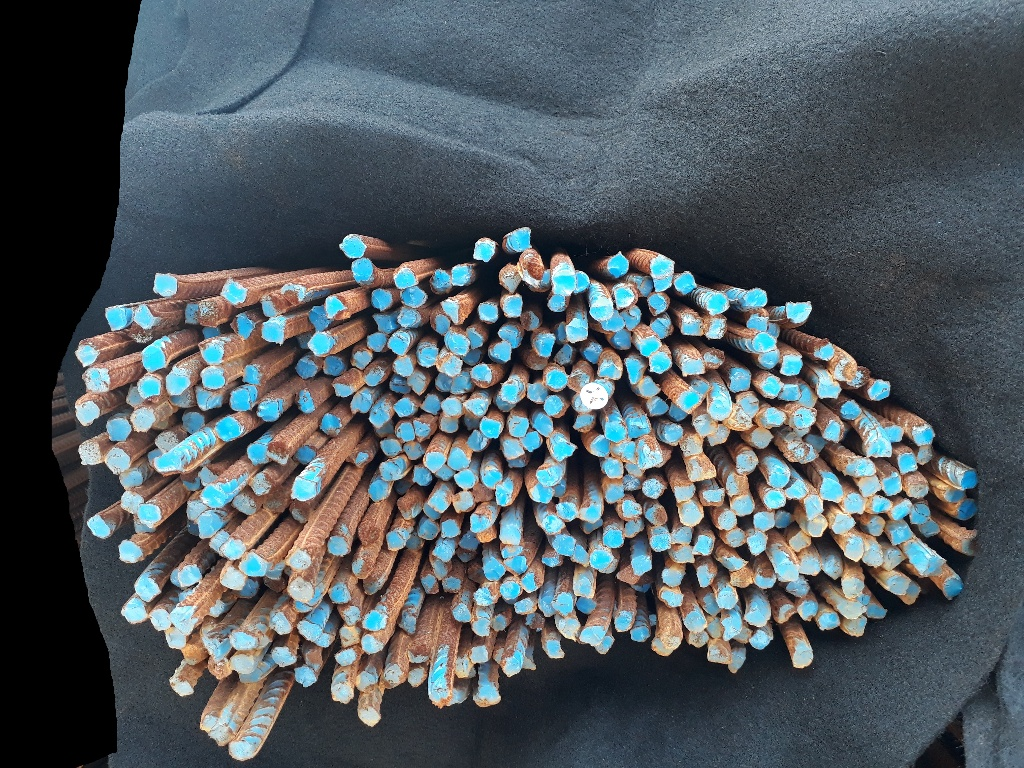dipstick: (426, 479, 457, 514), (519, 249, 544, 289), (637, 435, 662, 469), (685, 457, 717, 483), (724, 403, 753, 431), (651, 631, 682, 657), (220, 278, 249, 305), (163, 367, 190, 396), (170, 606, 197, 635), (73, 399, 100, 427), (121, 597, 149, 624), (196, 299, 222, 328), (451, 655, 477, 684), (470, 686, 502, 709), (197, 339, 224, 366), (134, 576, 161, 603), (263, 487, 290, 514), (582, 382, 609, 409), (105, 447, 131, 475), (290, 474, 316, 502), (286, 577, 314, 603), (379, 455, 407, 481), (504, 226, 533, 251), (197, 511, 222, 540), (228, 629, 260, 651), (201, 482, 227, 509), (678, 501, 704, 528), (623, 358, 649, 385), (337, 234, 365, 259), (82, 367, 110, 392), (214, 416, 242, 441), (240, 552, 268, 577), (396, 496, 424, 521), (675, 390, 703, 415), (141, 344, 165, 373), (218, 566, 247, 590), (885, 519, 914, 543), (755, 407, 788, 428), (499, 263, 522, 293), (821, 550, 844, 580), (229, 313, 255, 339), (381, 663, 407, 689), (702, 313, 728, 339), (471, 236, 498, 261), (348, 258, 375, 283), (280, 283, 307, 308), (130, 406, 155, 433), (117, 539, 144, 564), (532, 330, 557, 357), (556, 617, 581, 644), (765, 463, 790, 490), (75, 441, 103, 465), (800, 515, 829, 538), (180, 642, 210, 664), (785, 301, 815, 323), (261, 291, 287, 316), (151, 271, 177, 296), (438, 353, 464, 378), (290, 500, 316, 525), (268, 610, 293, 636), (202, 633, 228, 658), (707, 639, 732, 665), (734, 392, 760, 417), (600, 309, 626, 334), (104, 305, 128, 332), (307, 331, 334, 355), (199, 366, 226, 390), (284, 549, 313, 571), (137, 504, 162, 529), (86, 514, 111, 539), (469, 363, 494, 388), (627, 415, 652, 440), (758, 374, 783, 399), (672, 271, 697, 296), (552, 268, 576, 294), (323, 294, 347, 320), (73, 343, 99, 367), (207, 530, 231, 556), (297, 619, 323, 643), (497, 323, 523, 347), (658, 423, 684, 447), (734, 452, 760, 476), (137, 374, 160, 401), (220, 538, 247, 561), (210, 724, 237, 747), (728, 494, 755, 517), (840, 615, 867, 638), (704, 292, 731, 315), (650, 255, 675, 279), (446, 332, 470, 357), (319, 413, 343, 438), (106, 417, 131, 441), (338, 624, 363, 648), (367, 479, 392, 503), (567, 368, 592, 392), (798, 552, 823, 576), (751, 509, 775, 534), (863, 494, 893, 514), (819, 479, 844, 503), (597, 355, 622, 379), (648, 349, 672, 374), (649, 316, 674, 340), (429, 268, 452, 294), (119, 491, 145, 514), (551, 592, 574, 618), (439, 298, 461, 325), (417, 514, 439, 541), (579, 625, 606, 647), (659, 587, 686, 609), (616, 563, 643, 585), (536, 465, 563, 487), (846, 366, 873, 388), (608, 251, 629, 279), (803, 494, 824, 522), (782, 443, 810, 464), (866, 438, 894, 459), (634, 376, 662, 397), (228, 388, 252, 412), (179, 564, 203, 588), (208, 655, 232, 679), (602, 480, 626, 504), (726, 472, 750, 496), (261, 320, 284, 345), (322, 354, 347, 377), (267, 441, 290, 466), (232, 493, 257, 516), (326, 534, 351, 557), (360, 608, 385, 631), (489, 341, 514, 364), (481, 557, 506, 580), (551, 534, 576, 557), (731, 567, 756, 590), (617, 497, 642, 520), (645, 503, 668, 528), (866, 378, 891, 401), (154, 430, 180, 452), (529, 482, 555, 504), (679, 433, 705, 455), (791, 406, 817, 428), (884, 573, 910, 595), (880, 471, 902, 497), (681, 356, 707, 378), (612, 286, 638, 308), (153, 455, 183, 474), (399, 287, 426, 308), (270, 646, 297, 667), (227, 740, 254, 761), (504, 556, 531, 577), (884, 544, 905, 571), (620, 303, 641, 330), (699, 487, 727, 507), (387, 331, 410, 355), (501, 654, 524, 678), (694, 564, 717, 588), (604, 419, 628, 442), (788, 528, 811, 552), (707, 397, 730, 421), (693, 414, 717, 437), (941, 577, 965, 600), (729, 368, 752, 392), (796, 385, 819, 409), (581, 340, 604, 364), (680, 313, 704, 336), (589, 298, 613, 321), (666, 399, 690, 422), (307, 306, 329, 331), (245, 444, 270, 466), (248, 472, 270, 497), (186, 500, 208, 525), (147, 609, 172, 631), (233, 578, 258, 600), (508, 412, 530, 437), (494, 391, 519, 413), (785, 575, 810, 597), (762, 488, 787, 510), (904, 477, 929, 499), (911, 424, 936, 446), (392, 267, 418, 288), (168, 675, 194, 696), (578, 503, 604, 524), (641, 478, 667, 499), (644, 396, 670, 417), (751, 331, 777, 352), (463, 398, 490, 418), (551, 441, 578, 461), (721, 526, 748, 546), (837, 600, 867, 618), (920, 557, 947, 577), (748, 529, 767, 557), (476, 301, 499, 324), (295, 357, 318, 380), (351, 446, 374, 469), (429, 685, 452, 708), (684, 610, 707, 633), (588, 434, 611, 457), (776, 559, 799, 582), (706, 423, 729, 446), (294, 389, 316, 413), (181, 412, 205, 434), (357, 706, 381, 728), (721, 616, 743, 640), (540, 514, 564, 536), (532, 413, 554, 437), (543, 392, 565, 416), (754, 565, 776, 589), (772, 508, 794, 532), (890, 498, 912, 522), (331, 683, 356, 704), (500, 379, 521, 404), (500, 525, 525, 546), (638, 335, 663, 356), (743, 287, 768, 308), (720, 554, 749, 572), (372, 314, 398, 334), (411, 417, 431, 443), (727, 647, 747, 673), (856, 476, 882, 496), (228, 653, 255, 672), (358, 525, 380, 548), (431, 558, 453, 581), (422, 452, 445, 474), (447, 447, 469, 470), (451, 491, 474, 513), (843, 491, 865, 514), (701, 348, 724, 370), (610, 328, 633, 350), (633, 274, 655, 297), (502, 294, 523, 318), (416, 347, 440, 368), (331, 377, 355, 398), (257, 401, 281, 422), (328, 583, 352, 604), (361, 633, 385, 654), (431, 542, 455, 563), (499, 581, 523, 602), (748, 629, 772, 650), (570, 545, 591, 569), (840, 578, 864, 599), (816, 611, 841, 631), (748, 427, 773, 447), (803, 433, 828, 453), (744, 311, 769, 331), (134, 303, 153, 329), (817, 380, 843, 399), (743, 609, 770, 627), (660, 568, 687, 586), (470, 510, 492, 532), (519, 310, 541, 332), (480, 417, 502, 439), (785, 479, 807, 501), (782, 354, 804, 376), (451, 262, 472, 285), (371, 289, 394, 310), (351, 556, 372, 579), (369, 405, 390, 428), (793, 647, 814, 670), (716, 587, 737, 610), (796, 599, 817, 622), (555, 501, 578, 522), (568, 392, 591, 413), (716, 510, 739, 531), (295, 445, 319, 465), (293, 666, 317, 686), (399, 612, 419, 636), (408, 371, 428, 395), (388, 375, 412, 395), (622, 518, 646, 538), (831, 514, 855, 534), (777, 383, 801, 403), (119, 469, 144, 488), (588, 549, 613, 568), (843, 538, 862, 563), (701, 591, 719, 617), (392, 355, 414, 376), (164, 628, 186, 649), (355, 671, 376, 693), (411, 464, 432, 486), (472, 481, 494, 502), (394, 398, 416, 419), (438, 413, 460, 434), (468, 430, 489, 452), (775, 603, 796, 625), (672, 544, 694, 565), (502, 438, 524, 459), (546, 370, 567, 392), (822, 421, 843, 443), (840, 399, 862, 420), (834, 361, 856, 382), (566, 322, 588, 343), (647, 294, 668, 316), (399, 308, 422, 328), (363, 366, 386, 386), (460, 530, 480, 553), (466, 564, 489, 584), (523, 612, 546, 632), (441, 397, 464, 417), (576, 595, 599, 615), (573, 578, 596, 598), (693, 534, 713, 557), (861, 548, 884, 568), (956, 499, 976, 522), (574, 267, 591, 294), (335, 648, 359, 667), (454, 470, 478, 489), (465, 326, 484, 350), (572, 412, 596, 431), (902, 581, 921, 605), (380, 439, 405, 457), (538, 593, 556, 618), (579, 519, 605, 536), (240, 364, 261, 385), (420, 574, 441, 595), (522, 572, 543, 593), (421, 394, 442, 415), (631, 555, 652, 576), (526, 382, 547, 403), (897, 452, 918, 473), (813, 339, 834, 360), (124, 384, 144, 406), (197, 465, 219, 485), (544, 639, 566, 659), (441, 517, 461, 539), (495, 485, 515, 507), (351, 393, 373, 413), (910, 503, 930, 525), (757, 349, 779, 369), (408, 643, 431, 662), (481, 470, 504, 489), (687, 629, 710, 648), (673, 484, 696, 503), (918, 518, 941, 537), (513, 597, 538, 614), (622, 441, 639, 466), (471, 617, 491, 638), (469, 644, 490, 664), (672, 526, 692, 547), (554, 344, 574, 365), (385, 531, 407, 550), (450, 604, 472, 623), (472, 588, 494, 607), (527, 351, 549, 370), (610, 438, 629, 460), (864, 517, 886, 536), (854, 457, 876, 476), (547, 292, 569, 311), (865, 601, 888, 619), (184, 301, 201, 325), (540, 551, 564, 568), (962, 531, 979, 555), (942, 486, 969, 501), (351, 351, 371, 371), (261, 577, 286, 593), (341, 605, 361, 625), (407, 667, 427, 687), (394, 476, 414, 496), (917, 444, 937, 464), (365, 333, 386, 352), (441, 575, 462, 594), (396, 422, 415, 443), (593, 636, 614, 655), (615, 611, 634, 632), (522, 431, 541, 452), (604, 458, 623, 479), (622, 473, 643, 492), (707, 617, 725, 639), (603, 531, 625, 549), (624, 460, 646, 478), (628, 626, 651, 643), (238, 670, 264, 685), (362, 577, 381, 597), (651, 533, 671, 552), (960, 469, 980, 488), (434, 314, 451, 336), (313, 631, 335, 648), (306, 649, 325, 668), (199, 714, 219, 732), (491, 612, 507, 634), (462, 349, 482, 366), (207, 599, 225, 617), (883, 425, 903, 441), (475, 528, 497, 542), (507, 456, 529, 470), (374, 421, 393, 437), (294, 333, 312, 349), (168, 567, 181, 588), (491, 646, 505, 665), (767, 320, 781, 339), (176, 588, 194, 601), (523, 655, 537, 671), (632, 583, 651, 594)
